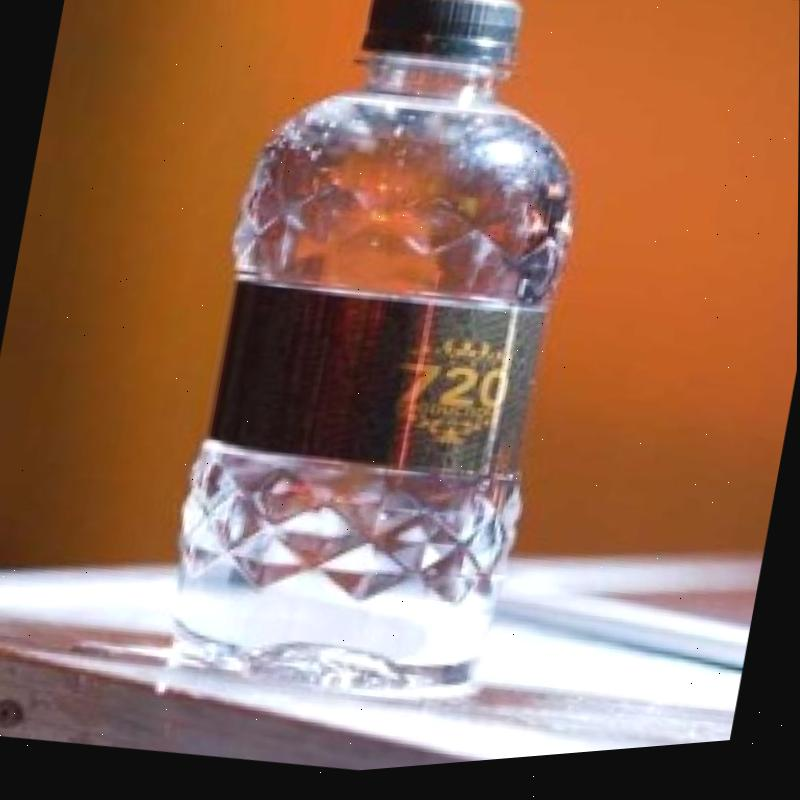botella: (149, 0, 618, 728)
